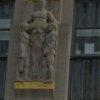Statue: (12, 1, 65, 94)
